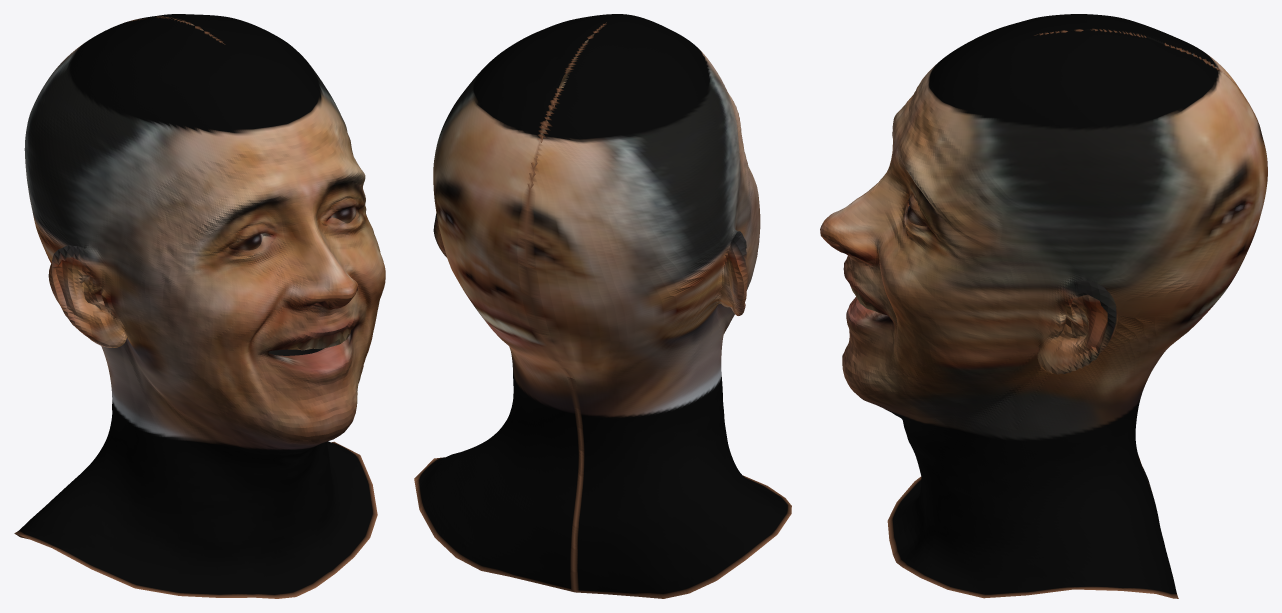
The model's file is mesh_coarse_detail.obj.
3 renders of one model, left to right at view 1: azimuth 30°, elevation 25°; view 2: azimuth 150°, elevation 25°; view 3: azimuth 270°, elevation 25°, orthographic. The views are drawn at different scales.
Bounding box in the file's own units: 0.2133 × 0.3124 × 0.2343.
